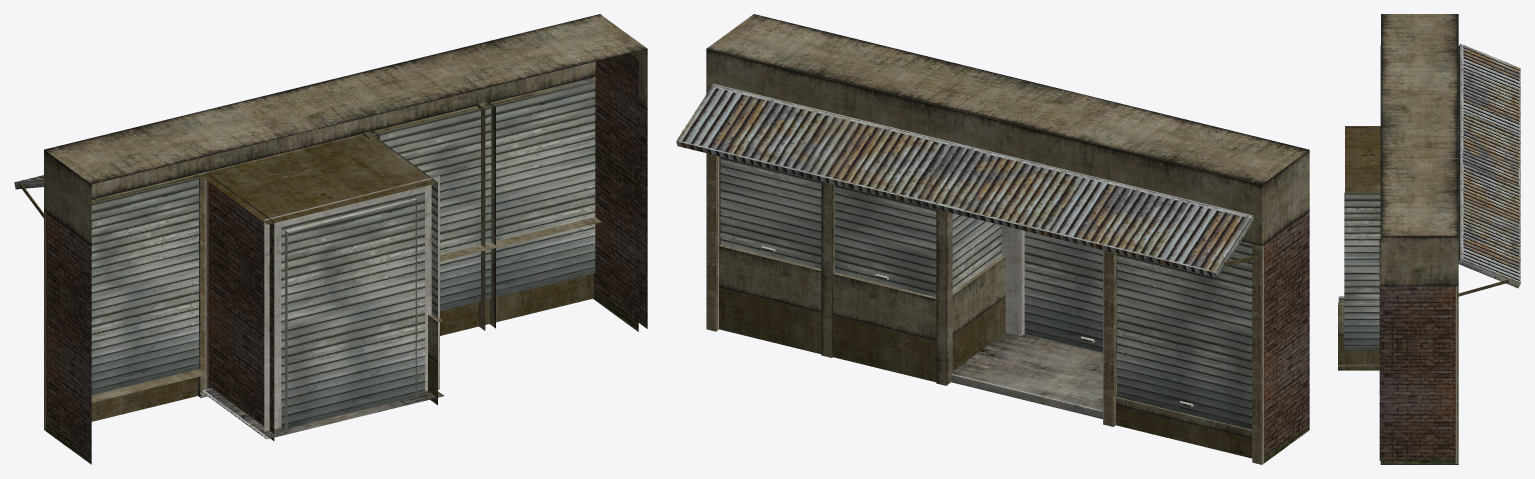
The model's file is Store_front_23.fbx.
3 renders of one model, left to right at view 1: azimuth 30°, elevation 25°; view 2: azimuth 150°, elevation 25°; view 3: azimuth 270°, elevation 25°, orthographic. The views are drawn at different scales.
Parts seen in each view (by area): view 1: Store_front_23; view 2: Store_front_23; view 3: Store_front_23.
Boxes of the visible parts, x1,y1,x2,y2 form: Store_front_23: (14, 14, 647, 464); Store_front_23: (676, 14, 1309, 464); Store_front_23: (1338, 14, 1520, 464).
Bounding box in the file's own units: 700 × 337 × 244.
